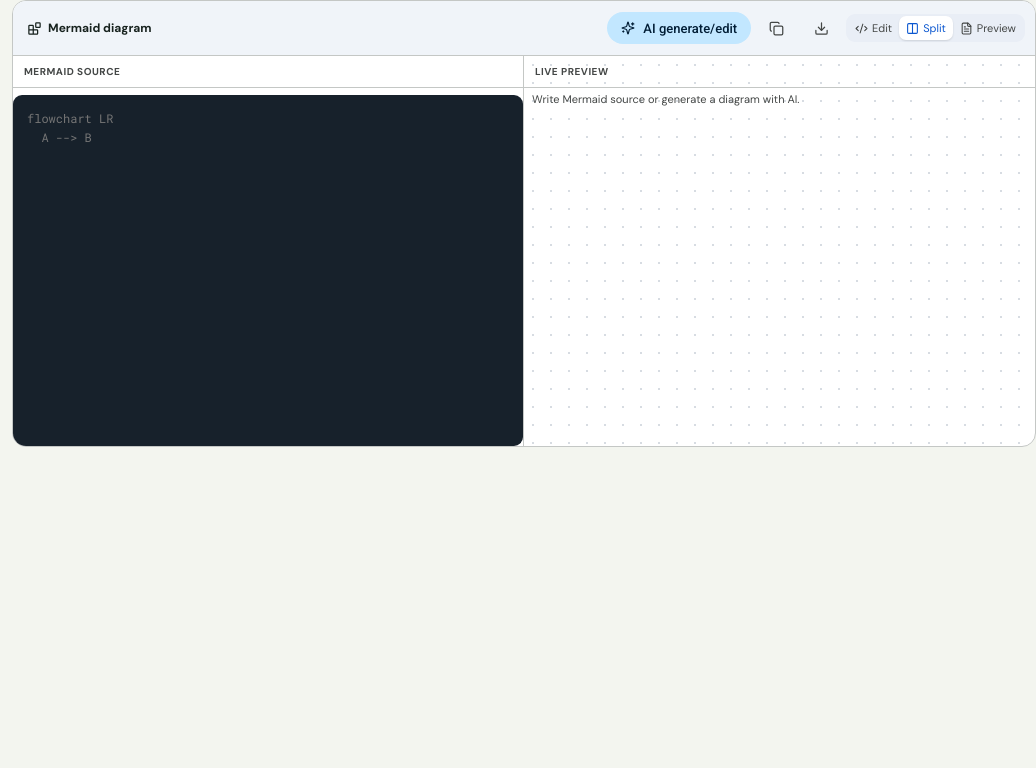
Test case: MermaidWorkbench › uses the shared project AI endpoint to generate or edit Mermaid
The width and height of the screenshot is (1036, 768).
Click the button "AI generate/edit" at [679, 28], box [607,12,751,44]
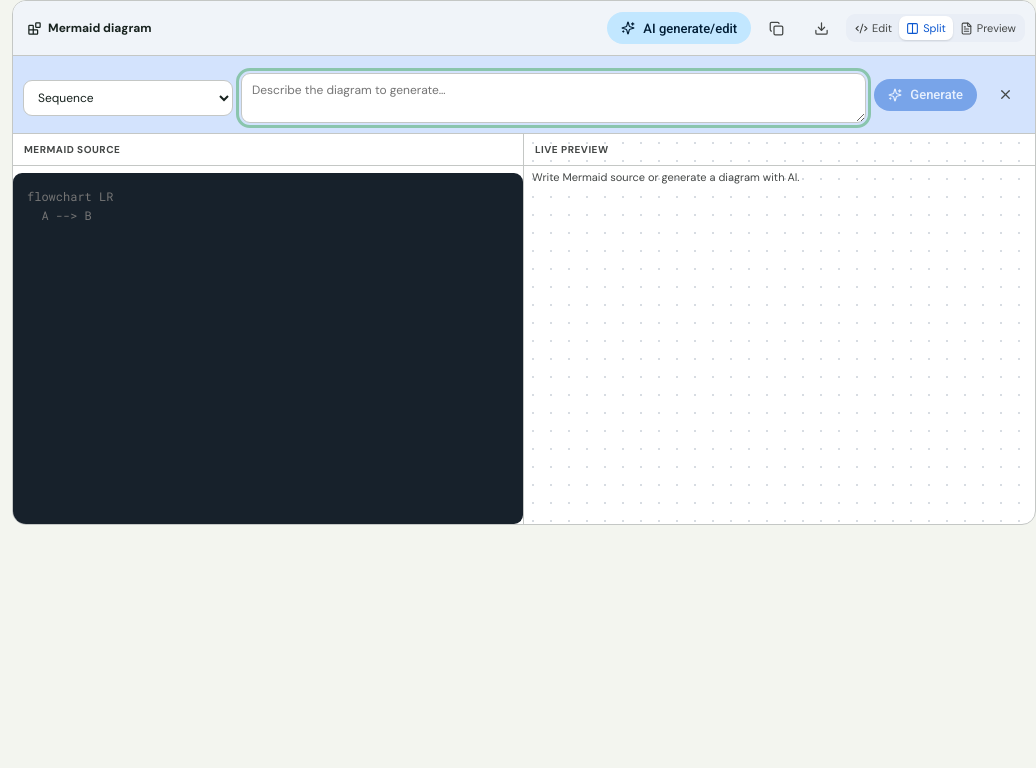
Type "Show the request flow" into the text box with placeholder "Describe the diagram to generate…" at [554, 98], box [241,73,866,123]
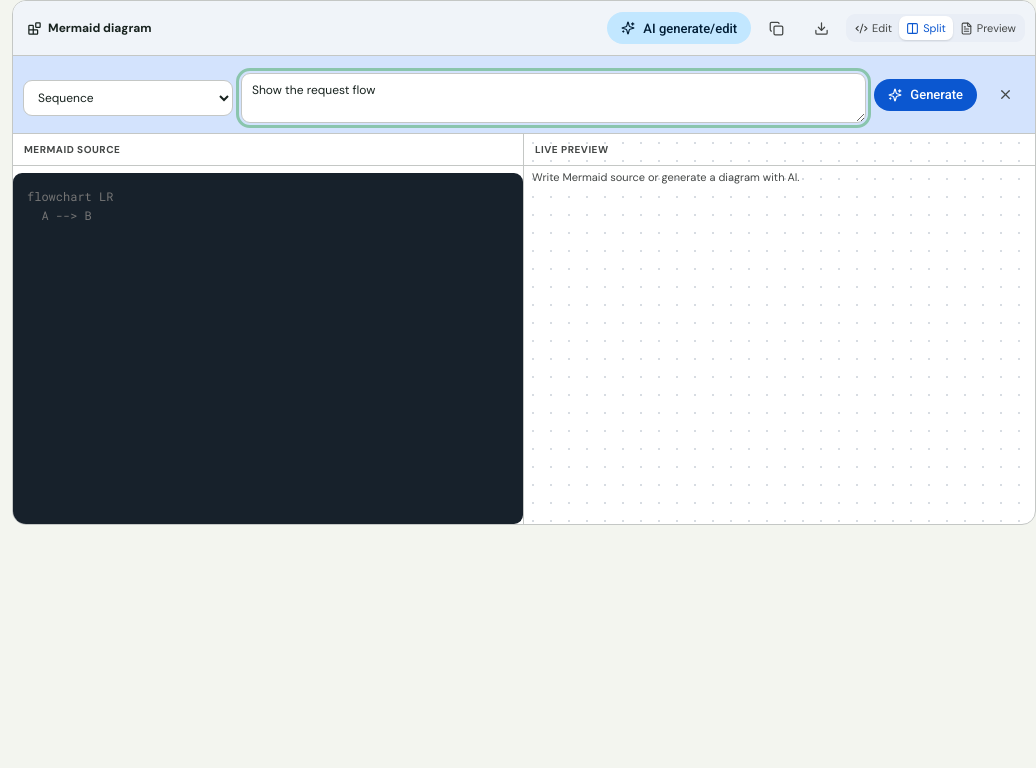
Click the button "Generate" at [926, 94], box [874,78,977,110]
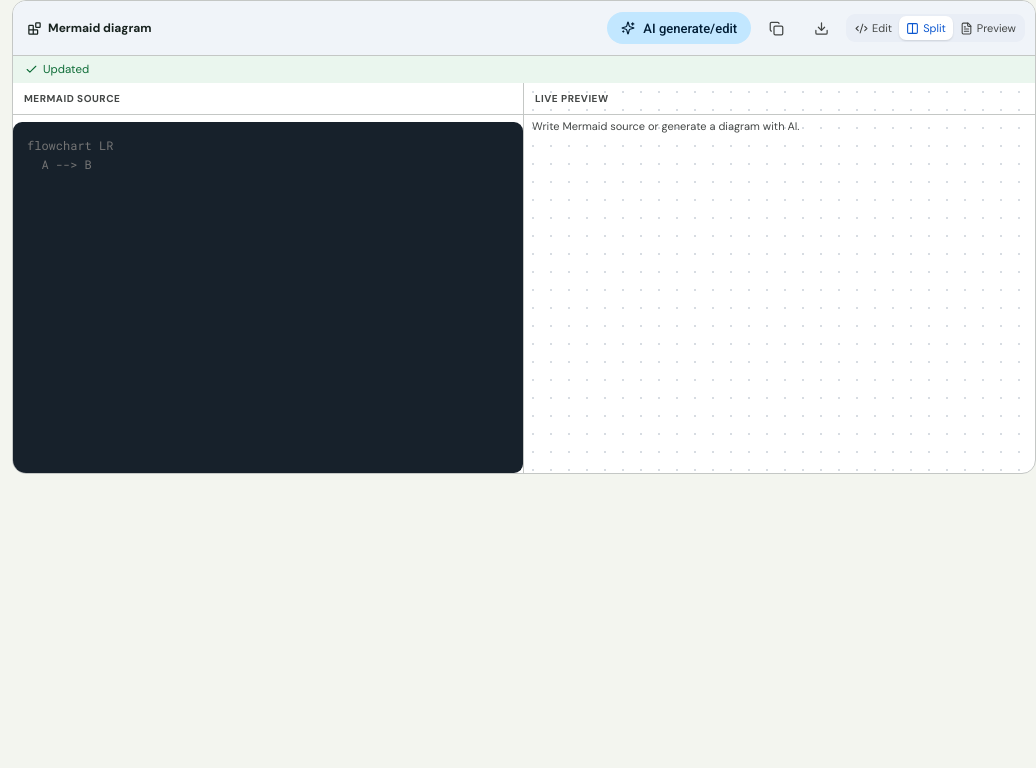
Expected: the text "Updated" is shown, [13,56,1035,83]
